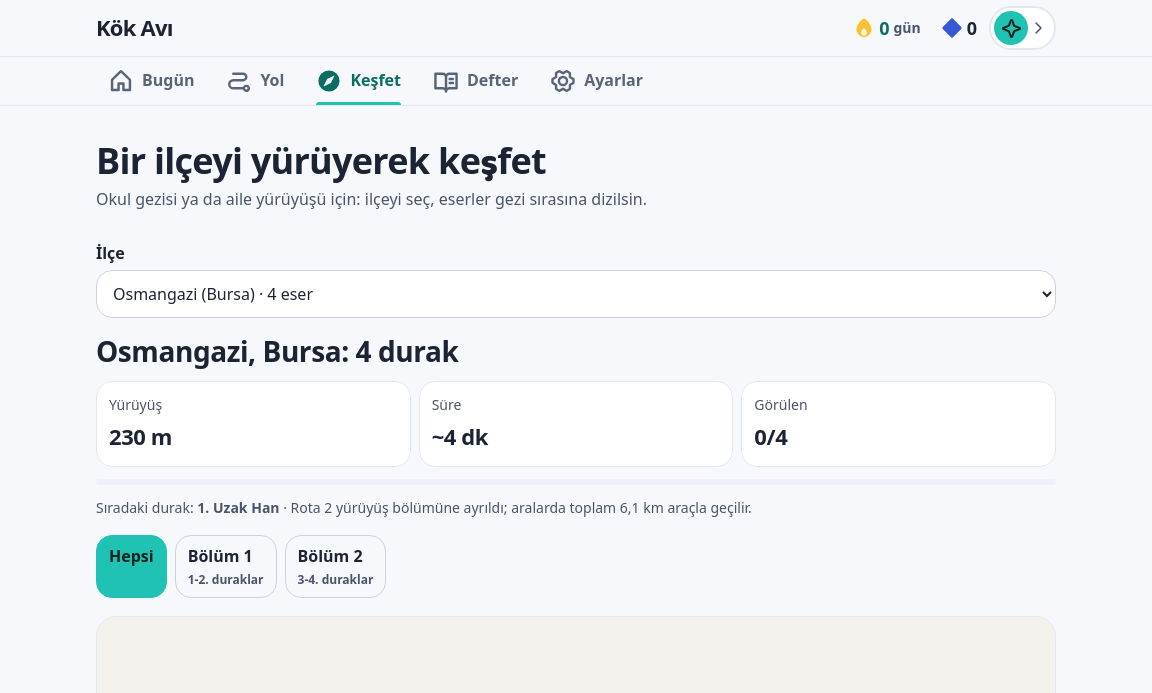
Test case: rota ekranı: bölümler ve hatırlama › uzak duraklar ayrı bölüm olur; bölüm seçilince liste süzülür; Gördüm cihazda hatırlanır
The width and height of the screenshot is (1152, 693).
Expected: the heading "Osmangazi, Bursa: 4 durak" is shown, [96,332,458,370]
Step 1. Click the button "Bölüm 1 1-2. duraklar" → (226, 567), box [175,535,277,598]
(page scrolled)
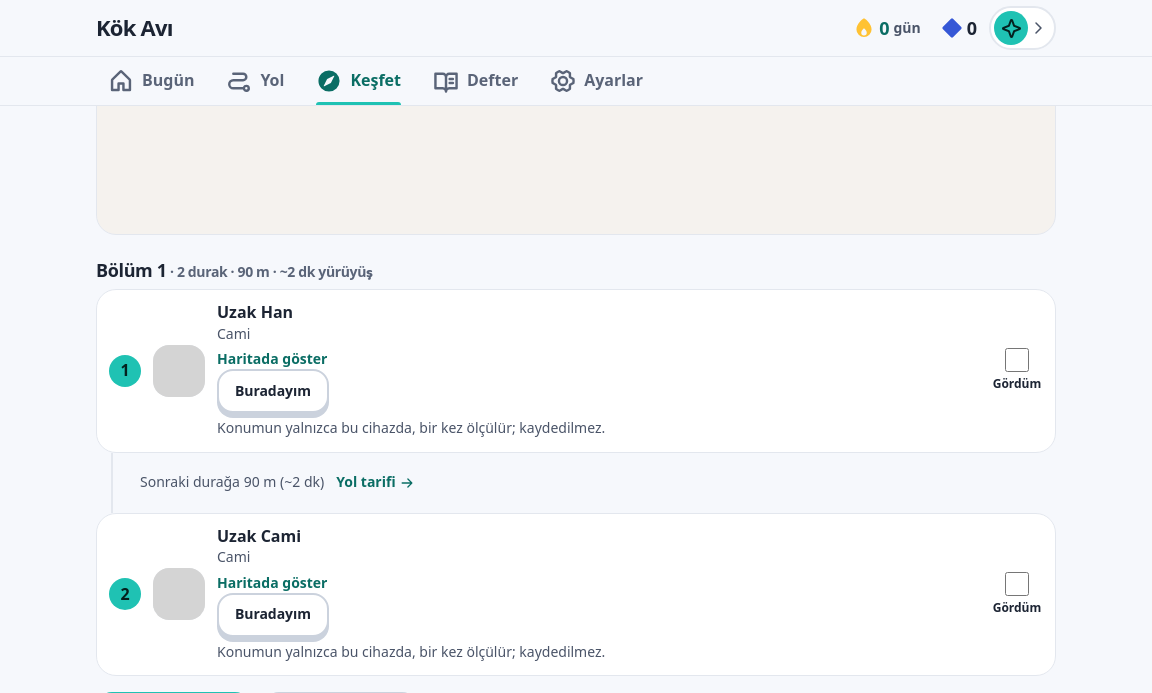
Expected: the heading "Bölüm 2" is not shown
Step 2. Click the 1st checkbox labelled "Gördüm" → (1017, 360), box [1005,348,1029,372]
(page scrolled)
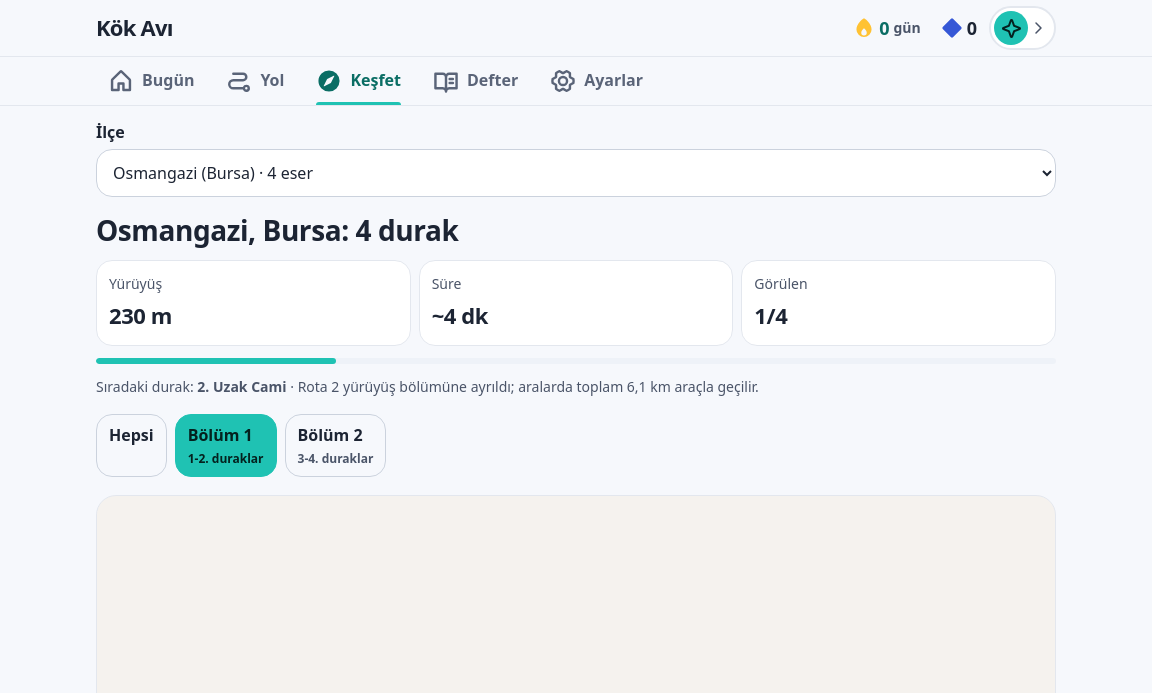
Now the progress indicator named "Görülen duraklar" has attribute aria-valuenow="1", box [96,358,1056,364]
